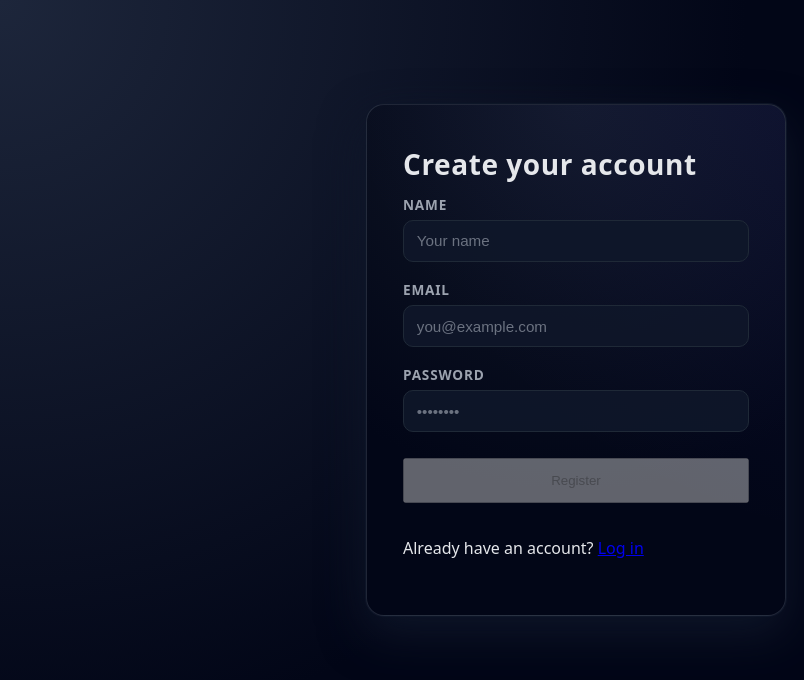
Test: RegisterPage › shows network error when fetch throws
Type "Regina" into the field with test id "register-input-name" at (576, 241), box left=403, top=220, right=749, bottom=262
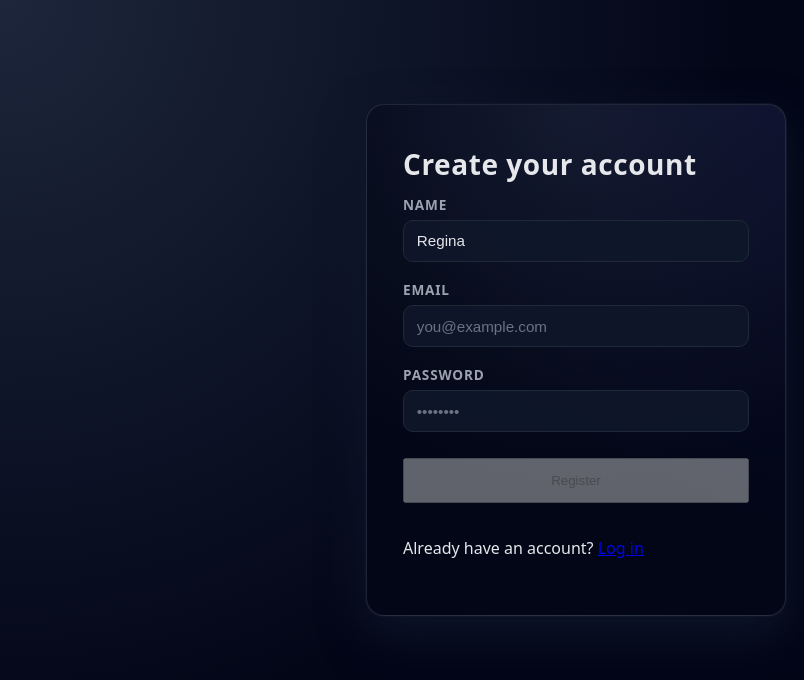
Type "regina@example.com" into the field with test id "register-input-email" at (576, 326), box left=403, top=305, right=749, bottom=347
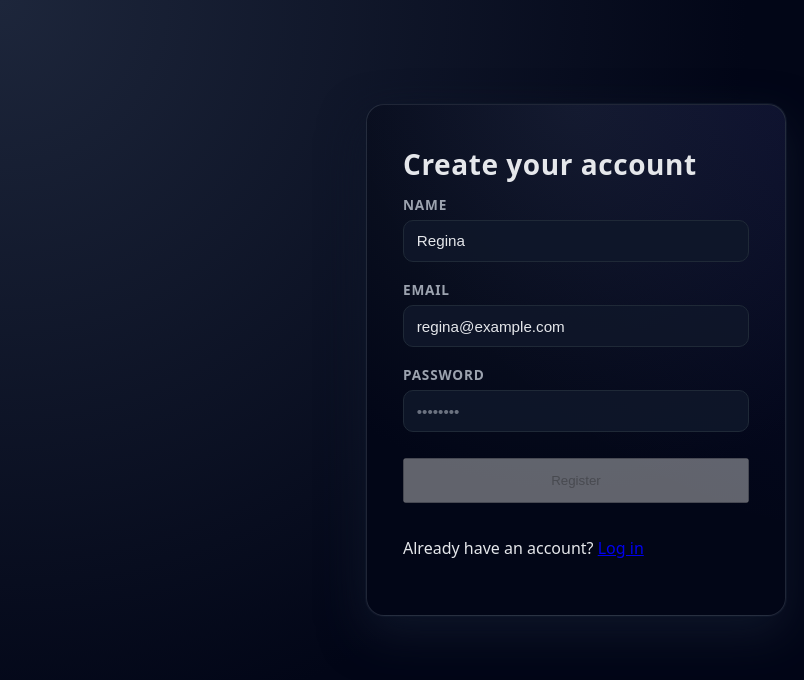
Type "Password1!" into the password field with test id "register-input-password" at (576, 411), box left=403, top=390, right=749, bottom=432
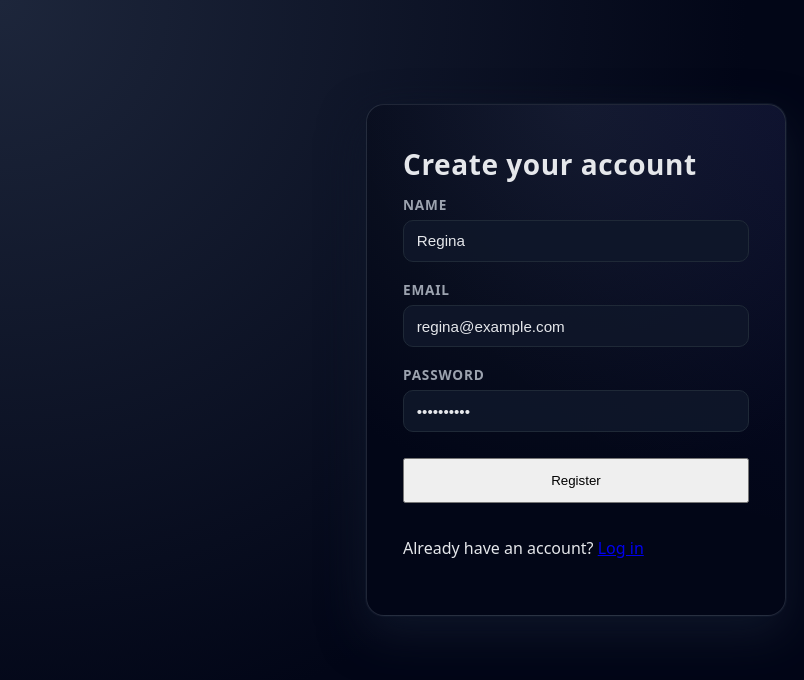
Click the button with test id "register-button" at (576, 480), box left=403, top=458, right=749, bottom=503
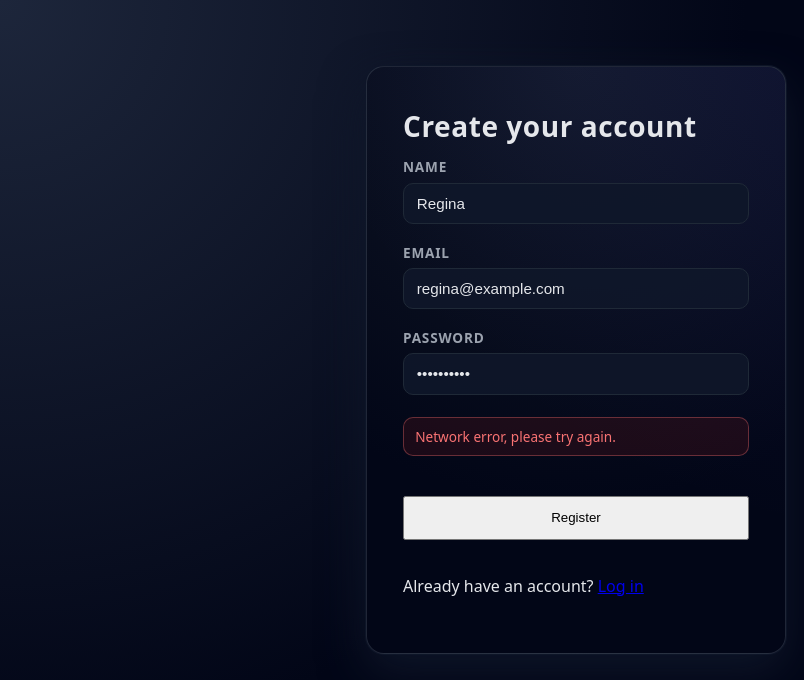
Expected: the text "Network error, please try again." is shown, left=403, top=417, right=749, bottom=456
